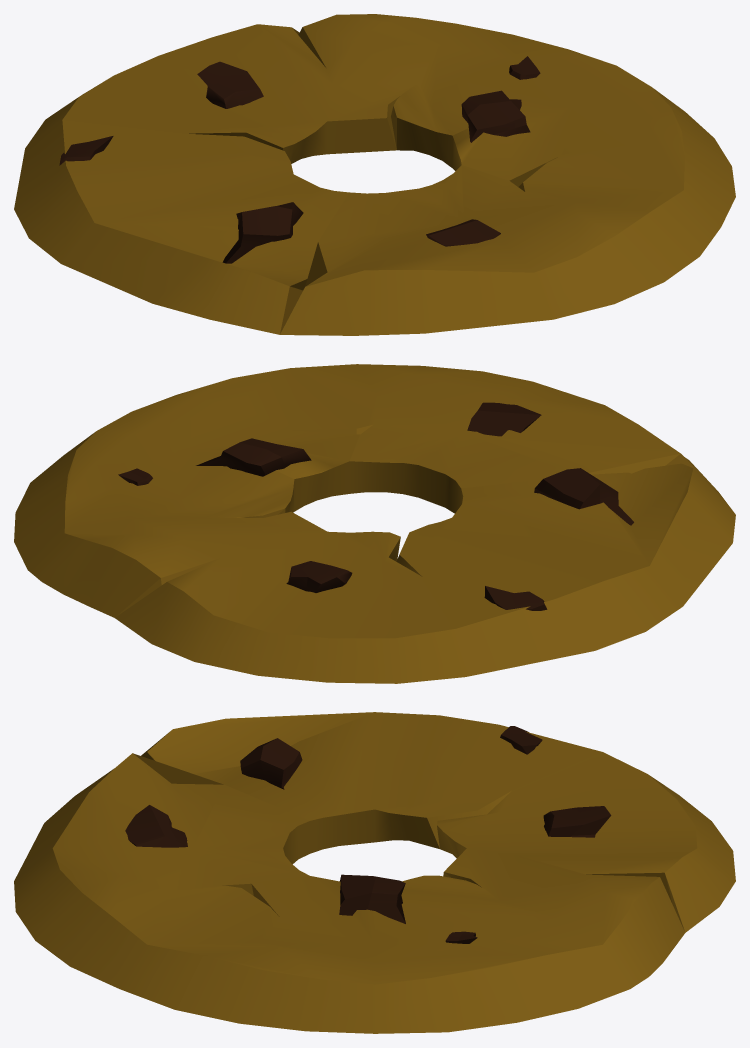
3 views of the same model, one above another, from view 1: azimuth 30°, elevation 25°; view 2: azimuth 150°, elevation 25°; view 3: azimuth 270°, elevation 25° (orthographic).
Parts seen in each view (by area): view 1: SM_Base; view 2: SM_Base; view 3: SM_Base.
Boxes of the visible parts, <box> form: SM_Base: <box>14,14,735,335</box>; SM_Base: <box>14,364,735,683</box>; SM_Base: <box>14,712,735,1033</box>.
Bounding box in the file's own units: 355 × 33.13 × 355.
